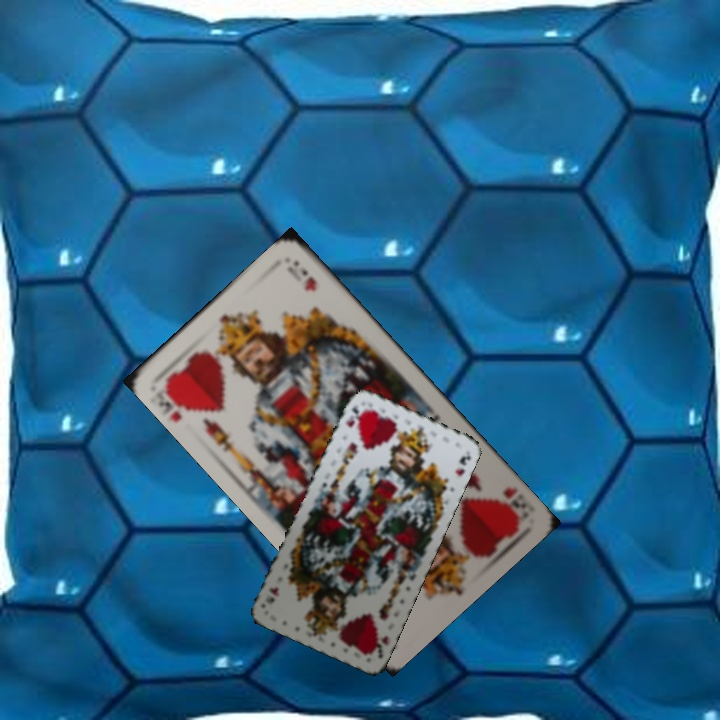HK: (160, 377, 198, 425), (492, 483, 529, 525), (365, 629, 391, 661), (342, 400, 361, 430)
